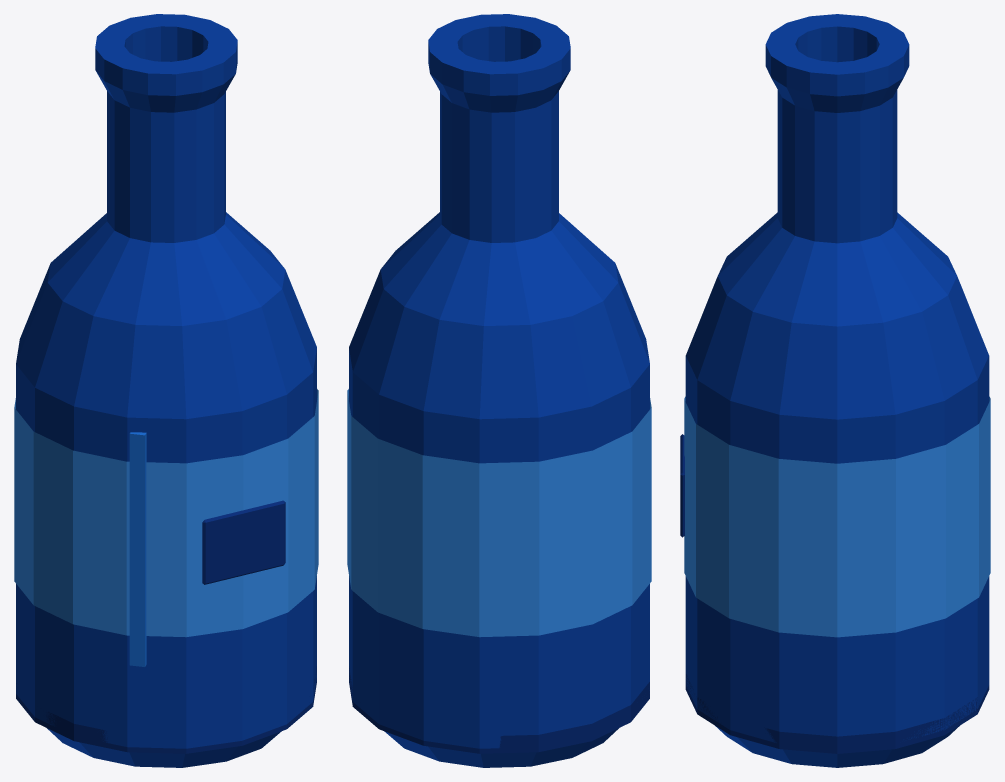
The model's file is Glass_GreenBottle.fbx.
3 renders of one model, left to right at view 1: azimuth 30°, elevation 25°; view 2: azimuth 150°, elevation 25°; view 3: azimuth 270°, elevation 25°, orthographic.
Visible parts, largest first — view 1: Glass_GreenBottle; view 2: Glass_GreenBottle; view 3: Glass_GreenBottle.
Boxes of the visible parts, left/top/right/bottom form: Glass_GreenBottle: left=14, top=14, right=318, bottom=767; Glass_GreenBottle: left=347, top=14, right=651, bottom=767; Glass_GreenBottle: left=680, top=14, right=990, bottom=767.
Size of the model in its own units: 47.48 by 115 by 48.1.
